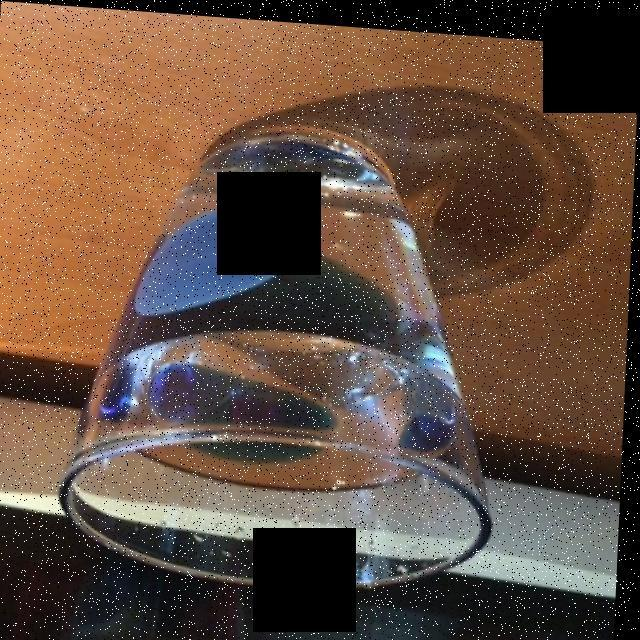water: (99, 116, 483, 472)
